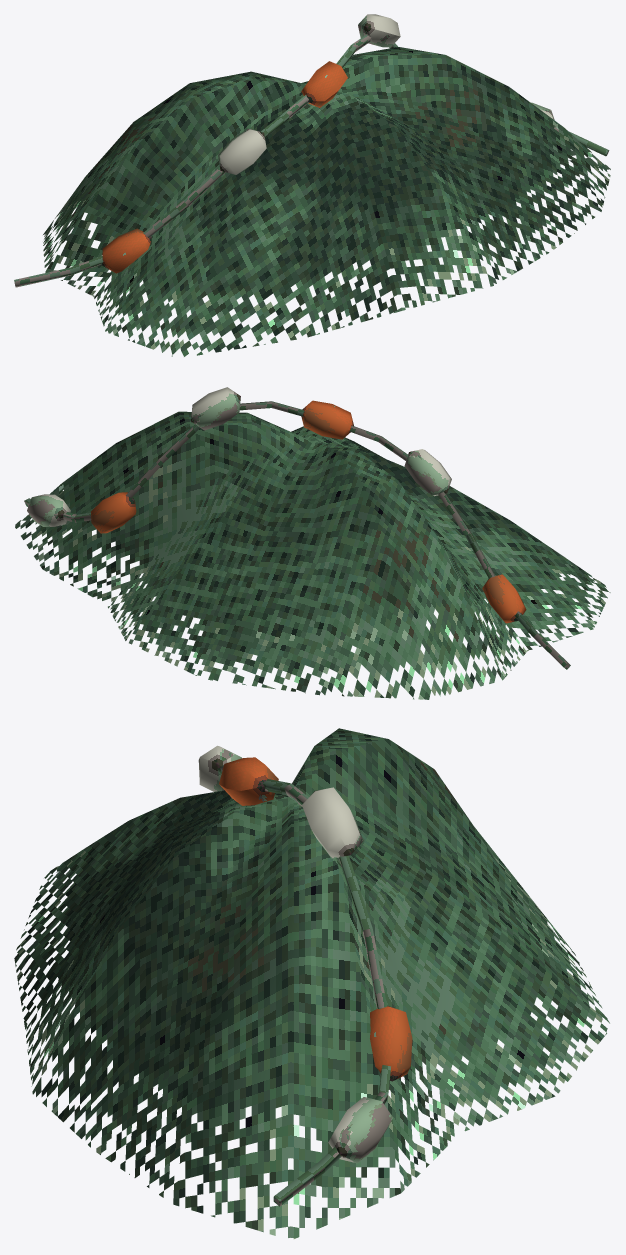
File: net_pile.glb
3 views of the same model, one above another, from view 1: azimuth 30°, elevation 25°; view 2: azimuth 150°, elevation 25°; view 3: azimuth 270°, elevation 25° (orthographic). The views are drawn at different scales.
Visible parts, largest first — view 1: net_pile; view 2: net_pile; view 3: net_pile.
Part boxes in pixels (x1=…): net_pile: x1=14, y1=14, x2=610, y2=356; net_pile: x1=15, y1=387, x2=610, y2=699; net_pile: x1=14, y1=728, x2=609, y2=1238.
Bounding box in the file's own units: 1.39 × 0.4592 × 0.8556.
1 material, 1 textured.
